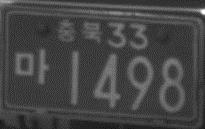1: (62, 50, 84, 104)
3: (106, 21, 127, 48), (129, 22, 148, 49)
4: (93, 53, 122, 108)
8: (157, 56, 186, 112)
9: (127, 56, 154, 111)
마: (14, 48, 51, 85)
충북_O: (56, 19, 103, 43)
